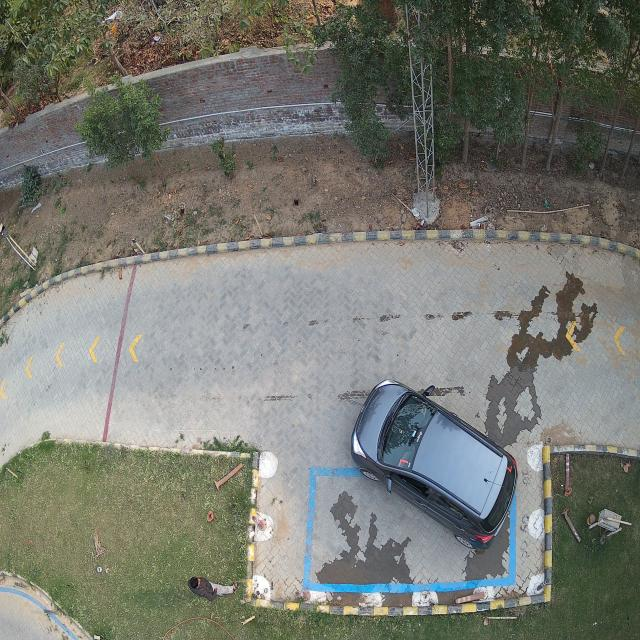car: (351, 380, 518, 550)
